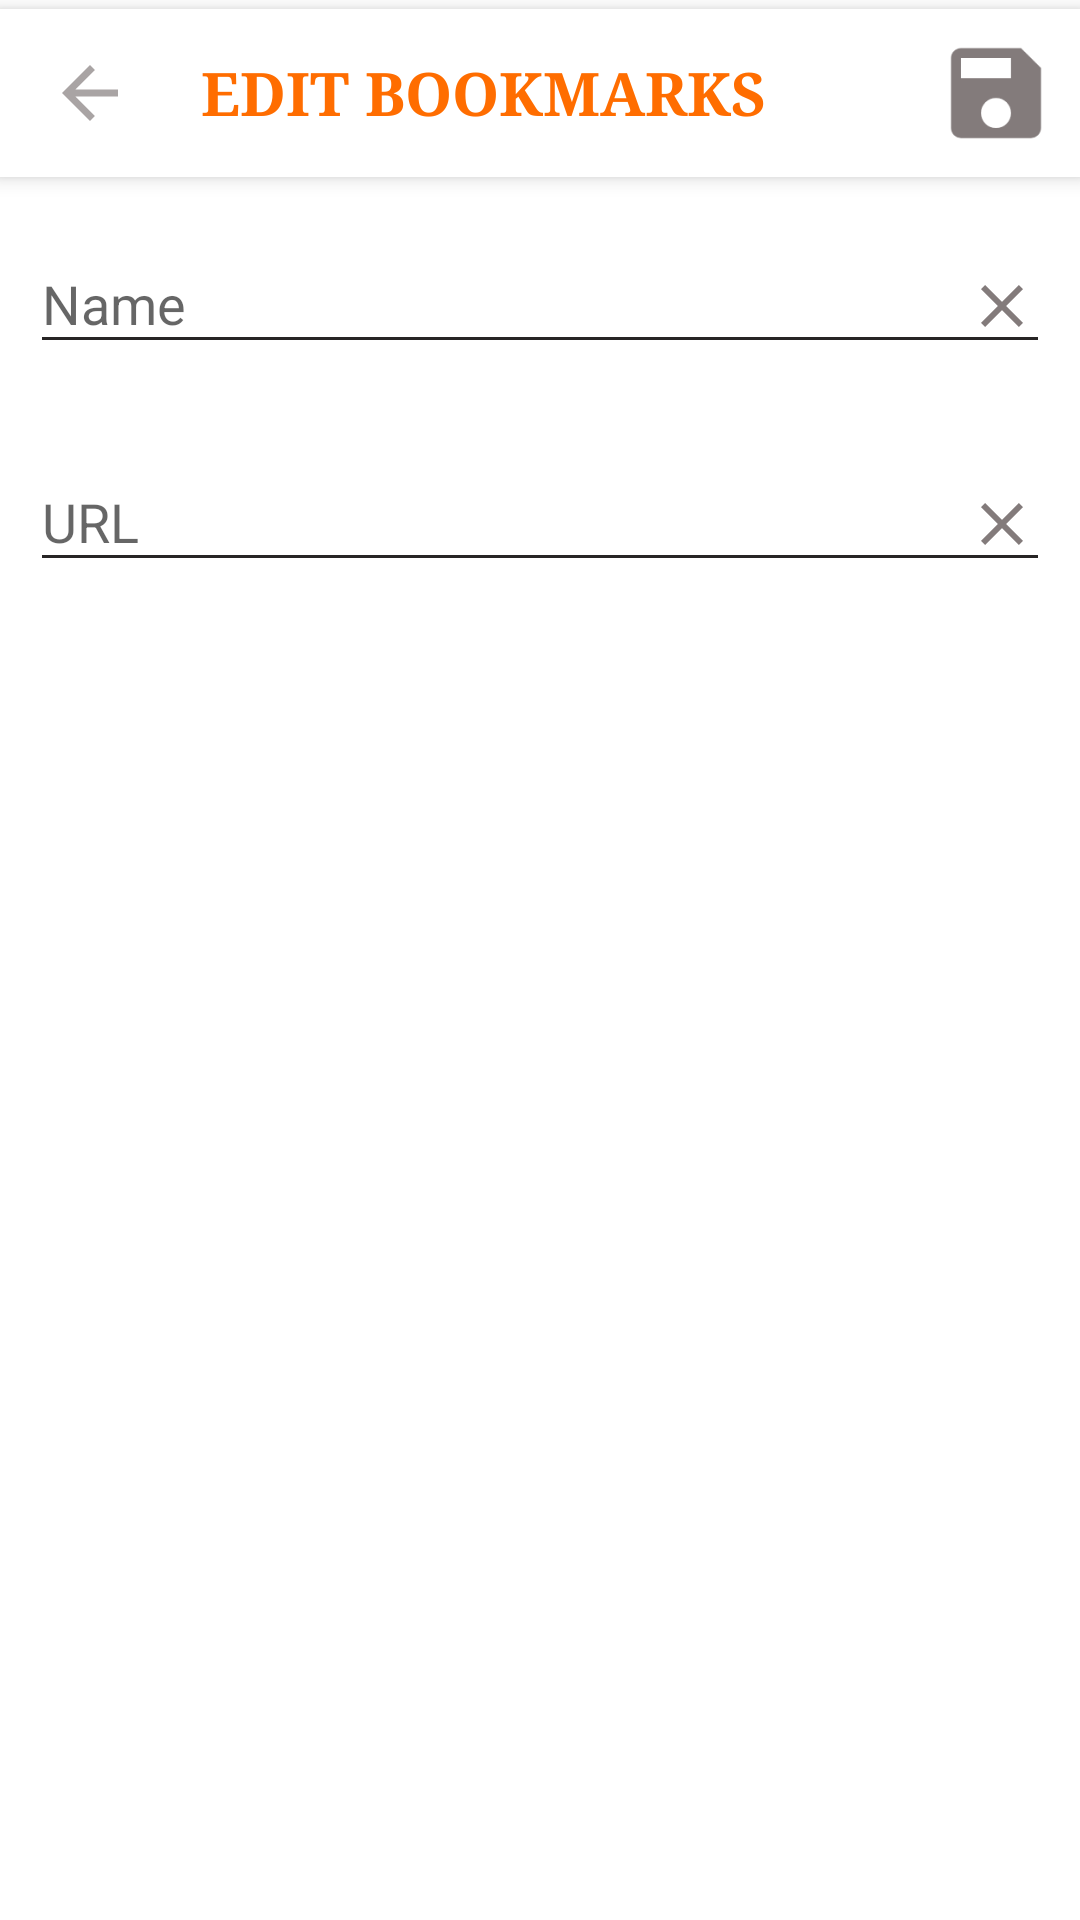

Point at icon controls on the screen. Image size 1080×1920, points as [x,y].
arrow back: [90,93]
save: [996,93]
